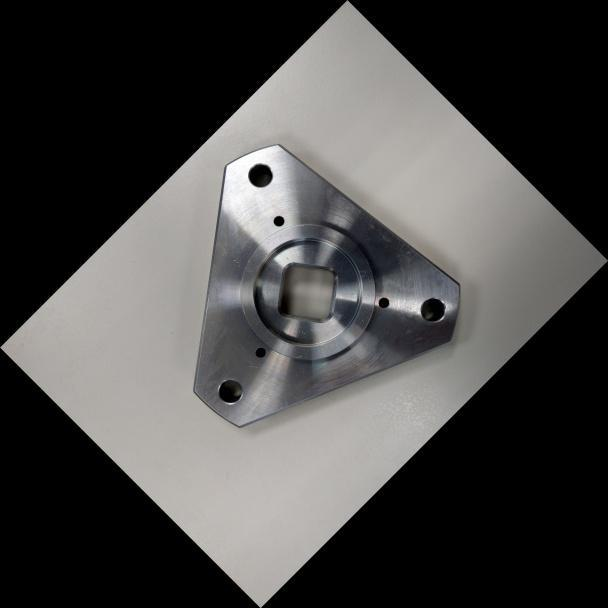hole: (410, 288, 453, 331), (209, 370, 251, 412), (239, 153, 281, 195), (373, 291, 395, 313), (250, 342, 270, 362), (269, 211, 288, 230)
